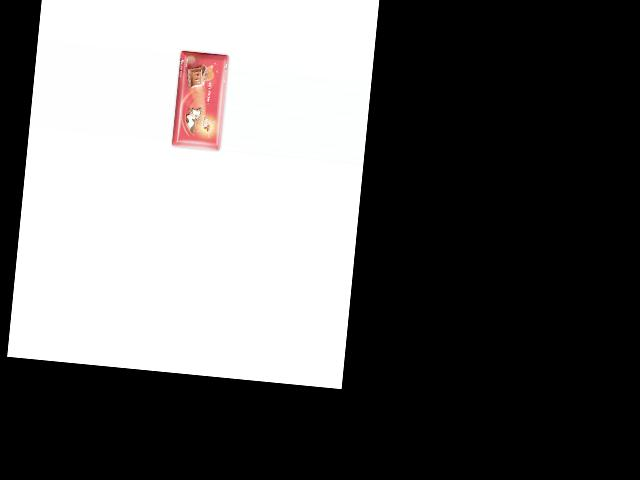chocolate: (167, 48, 229, 156)
